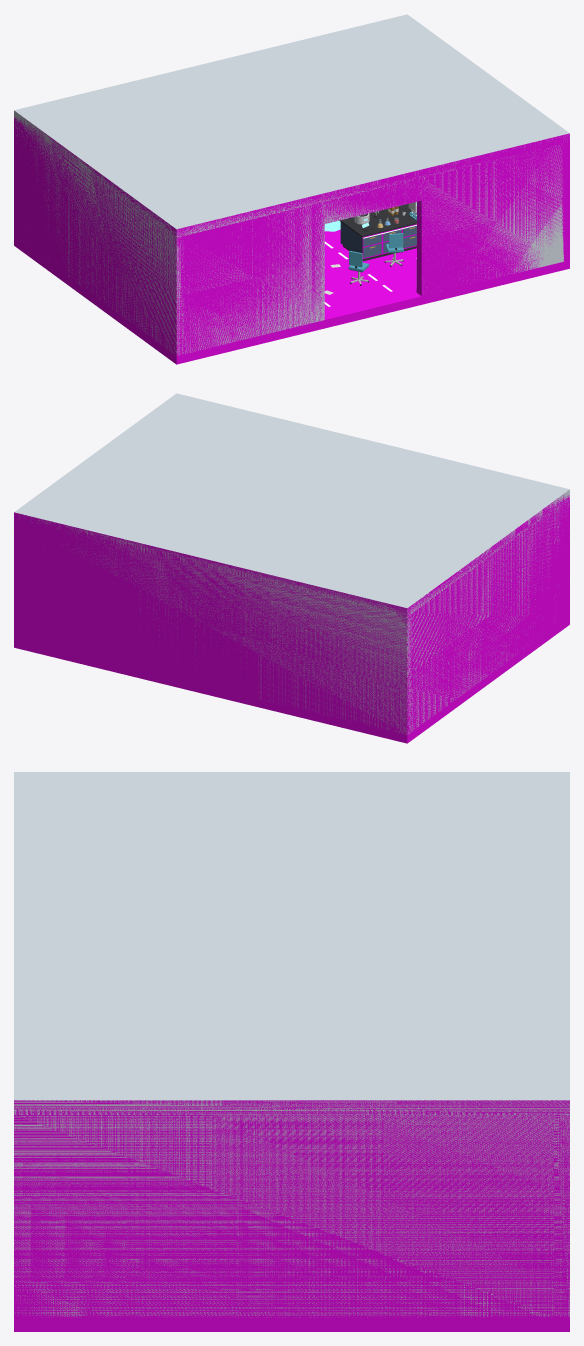
File: l2-lab.glb
The picture shows the model from 3 angles, top to bottom: view 1: azimuth 30°, elevation 25°; view 2: azimuth 150°, elevation 25°; view 3: azimuth 270°, elevation 25°; orthographic projection. The views are drawn at different scales.
Parts seen in each view (by area): view 1: Lab_Room, COL_Lab, Lab_Furniture, Lab_Clutter; view 2: Lab_Room, COL_Lab; view 3: Lab_Room, COL_Lab.
Boxes of the visible parts, x1,y1,x2,y2 form: Lab_Room: [14, 14, 569, 355]; COL_Lab: [14, 116, 569, 364]; Lab_Furniture: [339, 204, 416, 285]; Lab_Clutter: [324, 201, 416, 294]; Lab_Room: [14, 393, 569, 734]; COL_Lab: [14, 494, 569, 743]; Lab_Room: [14, 772, 569, 1317]; COL_Lab: [14, 1100, 569, 1331].
Bounding box in the file's own units: 14.6 × 5.29 × 10.45.
